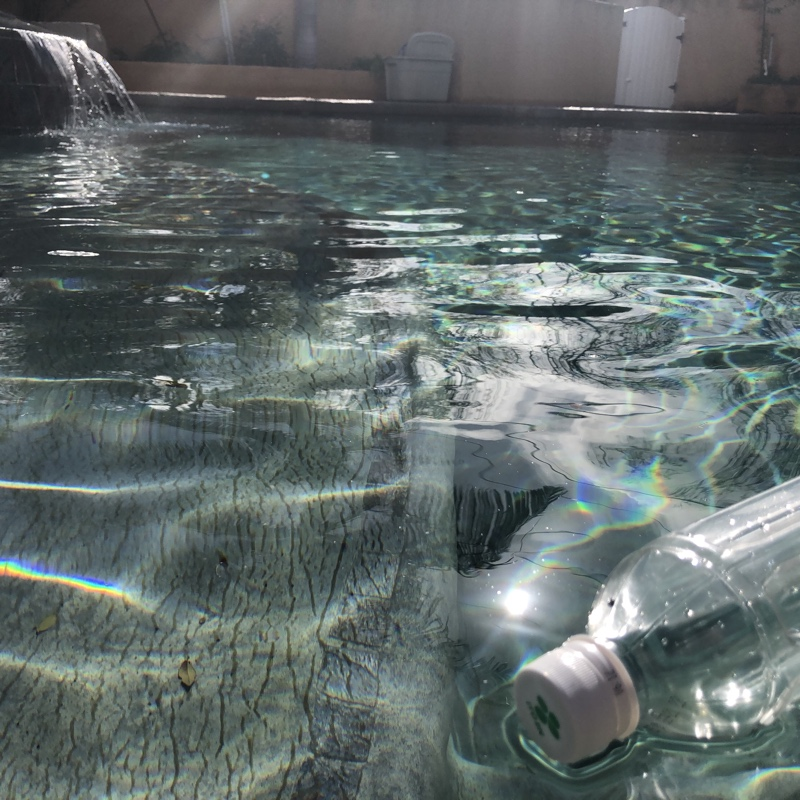Plastic Bottle: (501, 441, 800, 780)
